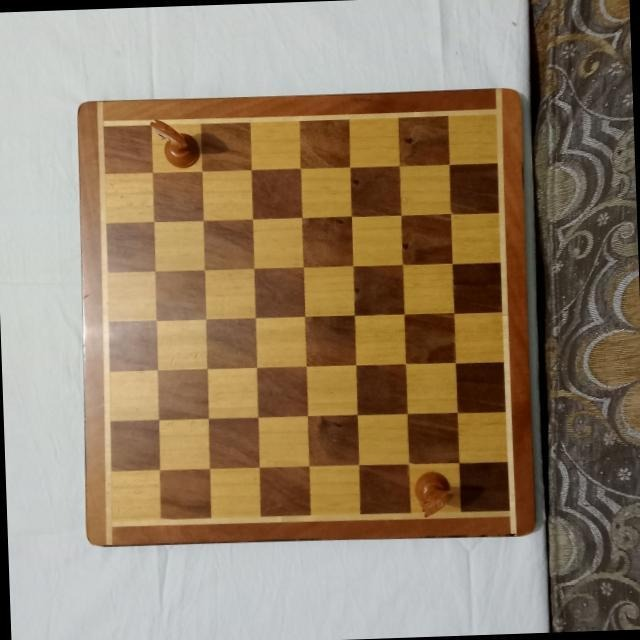white-knight: (145, 114, 201, 170), (412, 468, 452, 517)
